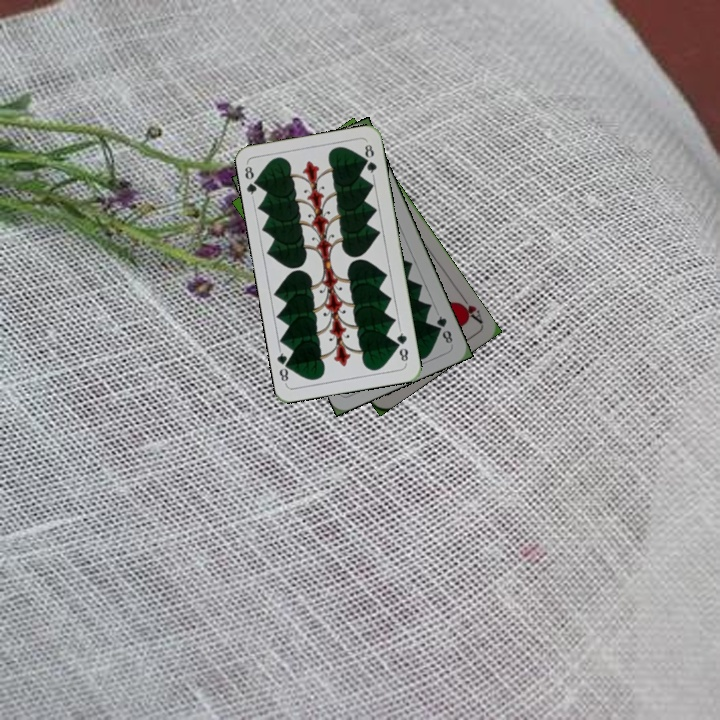G8: (241, 161, 263, 201), (432, 312, 455, 346), (392, 326, 411, 366)
HA: (452, 291, 485, 326)
